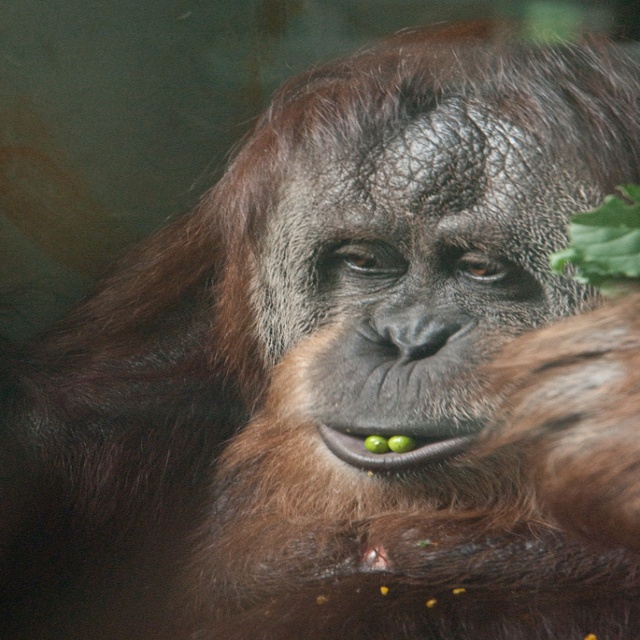Monkey: (0, 20, 639, 640)
